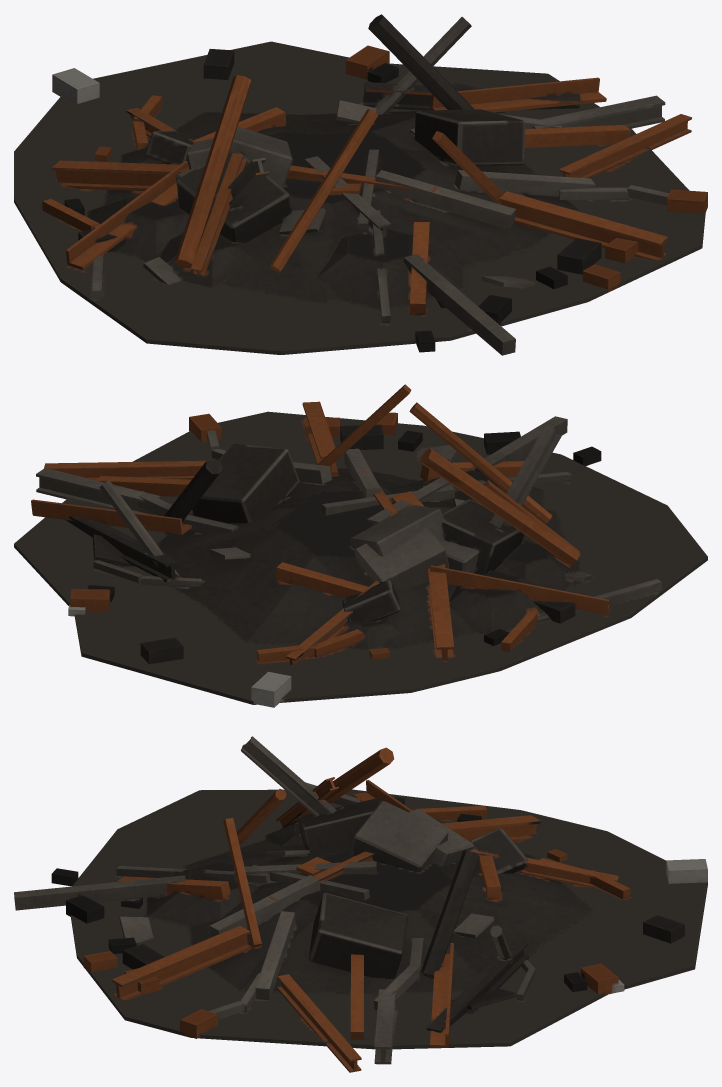
Rendered from scrap_heap_2.fbx.
The picture shows the model from 3 angles, top to bottom: view 1: azimuth 30°, elevation 25°; view 2: azimuth 150°, elevation 25°; view 3: azimuth 270°, elevation 25°; orthographic projection. The views are drawn at different scales.
Visible parts, largest first — view 1: base_bar; view 2: base_bar; view 3: base_bar.
Part boxes in pixels (x1,y1,x2,y2): base_bar: (14,14,707,355); base_bar: (14,384,707,707); base_bar: (14,736,707,1072).
Size of the model in its own units: 1359 by 495 by 1433.
2 materials, 2 textured.
